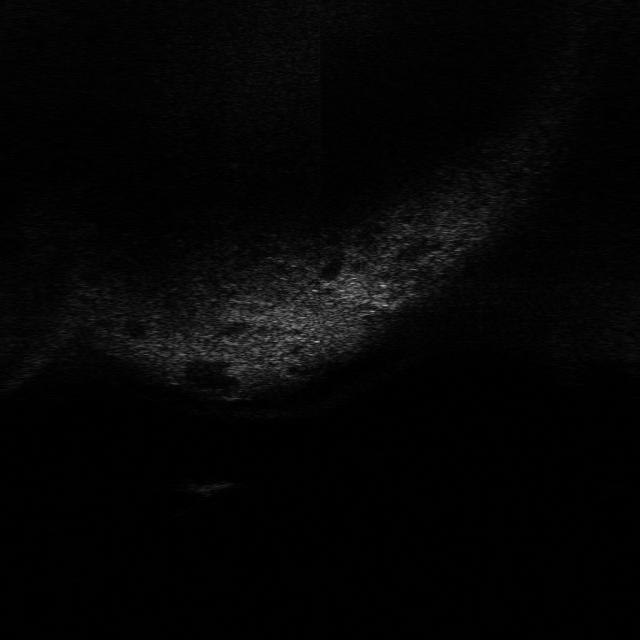cube: (177, 471, 233, 498)
